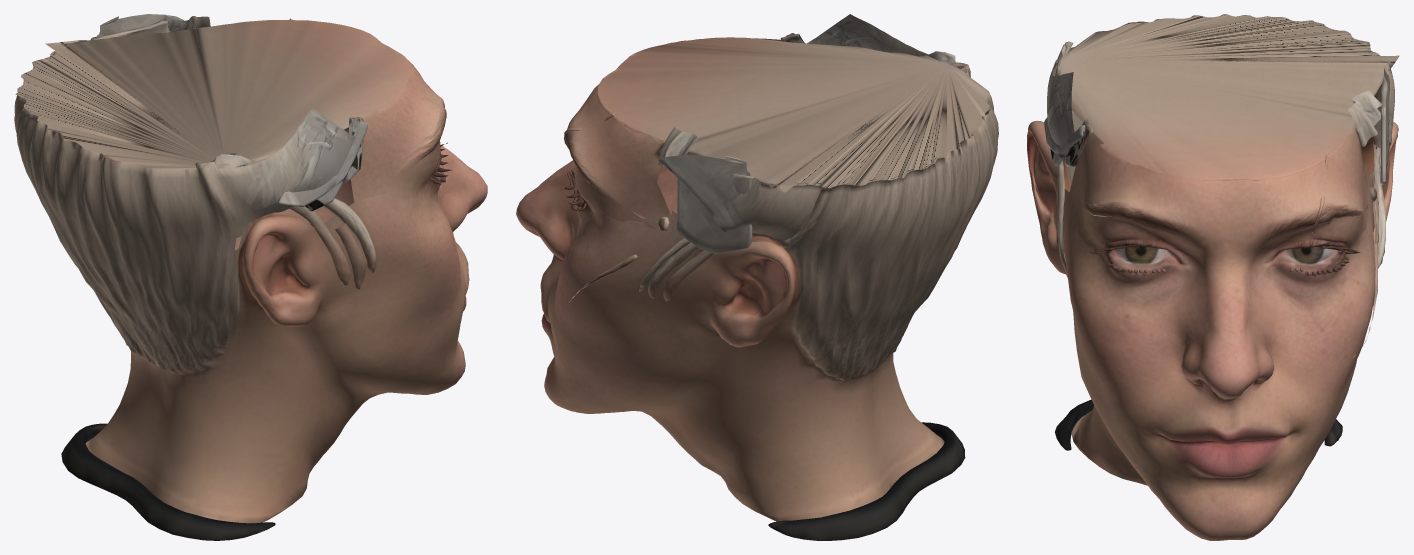
Rendered from source.glb.
The picture shows the model from 3 angles, left to right: view 1: azimuth 30°, elevation 25°; view 2: azimuth 150°, elevation 25°; view 3: azimuth 270°, elevation 25°; orthographic projection.
Visible parts, largest first — view 1: tripo_node_fdaa94f9-ffdb-446a-afe5-d0c60d23ee2b; view 2: tripo_node_fdaa94f9-ffdb-446a-afe5-d0c60d23ee2b; view 3: tripo_node_fdaa94f9-ffdb-446a-afe5-d0c60d23ee2b.
Part boxes in pixels (box(x1,y1,x2,y2)): tripo_node_fdaa94f9-ffdb-446a-afe5-d0c60d23ee2b: box(14, 14, 487, 540); tripo_node_fdaa94f9-ffdb-446a-afe5-d0c60d23ee2b: box(516, 14, 998, 540); tripo_node_fdaa94f9-ffdb-446a-afe5-d0c60d23ee2b: box(1027, 14, 1399, 540).
Bounding box in the file's own units: 0.998 × 0.8689 × 0.7378.
Materials: 1 (1 with a texture image).
